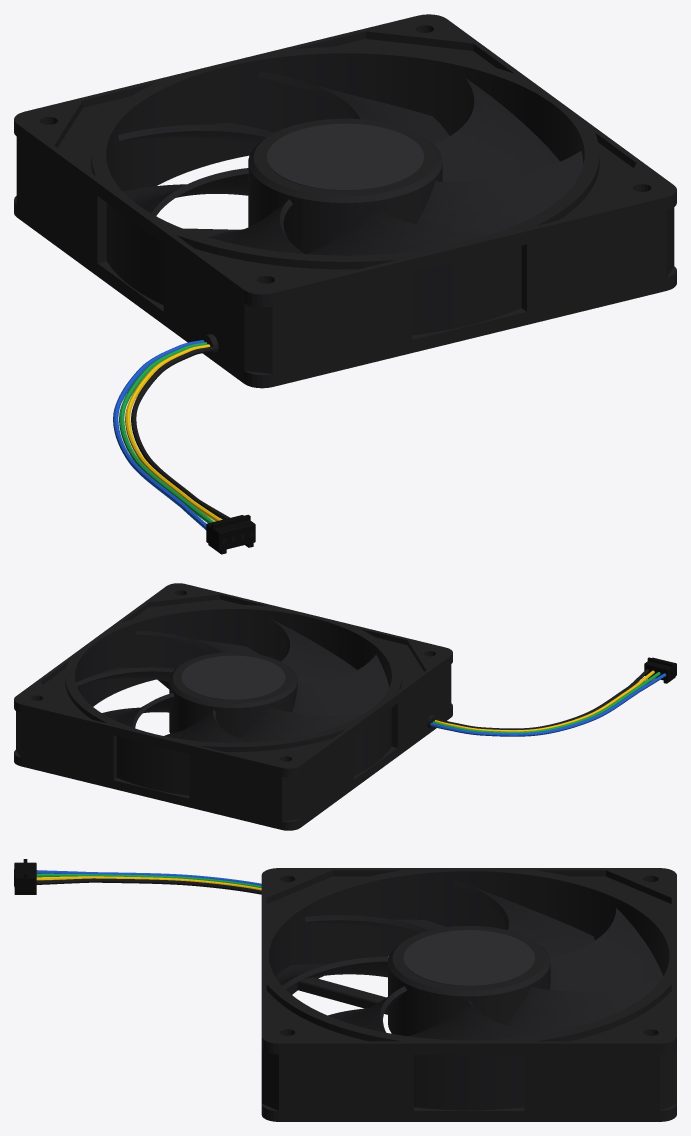
The model's file is fan_120mm_P12.glb.
3 views of the same model, one above another, from view 1: azimuth 30°, elevation 25°; view 2: azimuth 150°, elevation 25°; view 3: azimuth 270°, elevation 25° (orthographic). The views are drawn at different scales.
Parts seen in each view (by area): view 1: Fan_Frame, Fan_Rotor, Fan_Connector_4pin, Fan_Wire_PWM_blue, Fan_Wire_GND_black, Fan_Wire_TACH_green, Fan_Wire_12V_yellow; view 2: Fan_Frame, Fan_Rotor, Fan_Wire_PWM_blue, Fan_Wire_TACH_green, Fan_Wire_12V_yellow, Fan_Wire_GND_black, Fan_Connector_4pin; view 3: Fan_Frame, Fan_Rotor, Fan_Wire_GND_black, Fan_Connector_4pin, Fan_Wire_12V_yellow, Fan_Wire_PWM_blue, Fan_Wire_TACH_green.
Part boxes in pixels (box(x1,y1,x2,y2)): Fan_Frame: box(14, 14, 676, 388); Fan_Rotor: box(118, 71, 583, 255); Fan_Connector_4pin: box(206, 514, 255, 554); Fan_Wire_PWM_blue: box(113, 340, 206, 530); Fan_Wire_GND_black: box(131, 346, 229, 519); Fan_Wire_TACH_green: box(119, 342, 214, 523); Fan_Wire_12V_yellow: box(125, 344, 221, 521); Fan_Frame: box(14, 583, 452, 830); Fan_Rotor: box(76, 618, 389, 742); Fan_Wire_PWM_blue: box(430, 673, 666, 736); Fan_Wire_TACH_green: box(432, 672, 660, 733); Fan_Wire_12V_yellow: box(434, 670, 654, 731); Fan_Wire_GND_black: box(436, 669, 648, 729); Fan_Connector_4pin: box(644, 657, 676, 683); Fan_Frame: box(261, 868, 676, 1121); Fan_Rotor: box(275, 880, 663, 1040); Fan_Wire_GND_black: box(36, 878, 261, 894); Fan_Connector_4pin: box(14, 859, 36, 894); Fan_Wire_12V_yellow: box(36, 876, 261, 890); Fan_Wire_PWM_blue: box(36, 870, 261, 885); Fan_Wire_TACH_green: box(36, 873, 261, 887).
Bounding box in the file's own units: 0.1712 × 0.0279 × 0.1915.
